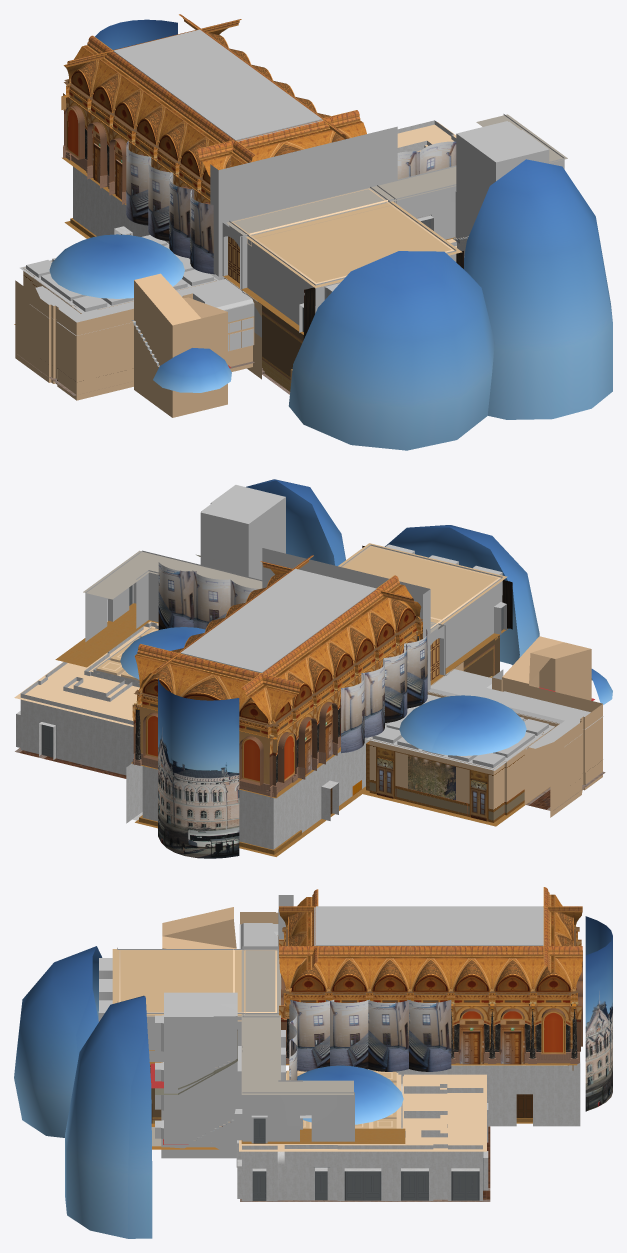
Rendered from cityHall_withTextures.fbx.
3 views of the same model, one above another, from view 1: azimuth 30°, elevation 25°; view 2: azimuth 150°, elevation 25°; view 3: azimuth 270°, elevation 25° (orthographic). The views are drawn at different scales.
Visible parts, largest first — view 1: LM2_walls_rightside, LM2_walls_rightside.001, outside, LM2_stairway, LM2_walls_hall, dome_outside03, ceiling_hallway_left, floor_blanks_greathall; view 2: LM2_walls_rightside, outside, LM2_walls_rightside.001, LM2_walls_hall, LM2_stairway, ceiling_hallway_left, floor_blanks_greathall, floor_blanks_large, floor_blanks_small, ceiling_window_waitroom; view 3: LM2_walls_rightside, LM2_walls_rightside.001, outside, LM2_stairway, LM2_walls_hall, doors_double_onesided02, floor_blanks_greathall, ceiling_hallway_left, ceiling_window_waitroom, floor_tile_red_large.
Boxes of the visible parts, left/top/right/bottom form: LM2_walls_rightside: left=15, top=14, right=567, bottom=417; LM2_walls_rightside.001: left=49, top=159, right=612, bottom=450; outside: left=95, top=19, right=456, bottom=274; LM2_stairway: left=456, top=121, right=549, bottom=256; LM2_walls_hall: left=73, top=166, right=225, bottom=280; dome_outside03: left=153, top=348, right=231, bottom=392; ceiling_hallway_left: left=30, top=278, right=257, bottom=335; floor_blanks_greathall: left=62, top=157, right=455, bottom=334; LM2_walls_rightside: left=14, top=543, right=605, bottom=822; outside: left=158, top=562, right=427, bottom=858; LM2_walls_rightside.001: left=120, top=479, right=539, bottom=755; LM2_walls_hall: left=126, top=722, right=388, bottom=849; LM2_stairway: left=200, top=485, right=285, bottom=579; ceiling_hallway_left: left=428, top=669, right=603, bottom=749; floor_blanks_greathall: left=55, top=603, right=507, bottom=798; floor_blanks_large: left=135, top=786, right=365, bottom=856; floor_blanks_small: left=362, top=787, right=549, bottom=826; ceiling_window_waitroom: left=91, top=627, right=158, bottom=680; LM2_walls_rightside: left=98, top=887, right=582, bottom=1201; LM2_walls_rightside.001: left=14, top=946, right=403, bottom=1238; outside: left=289, top=916, right=612, bottom=1111; LM2_stairway: left=151, top=992, right=237, bottom=1158; LM2_walls_hall: left=368, top=1052, right=580, bottom=1126; doors_double_onesided02: left=344, top=1171, right=479, bottom=1200; floor_blanks_greathall: left=149, top=1062, right=577, bottom=1143; ceiling_hallway_left: left=239, top=923, right=278, bottom=948; ceiling_window_waitroom: left=286, top=1070, right=401, bottom=1128; floor_tile_red_large: left=240, top=1126, right=490, bottom=1201.
Size of the model in its own units: 3875 by 1668 by 4344.
